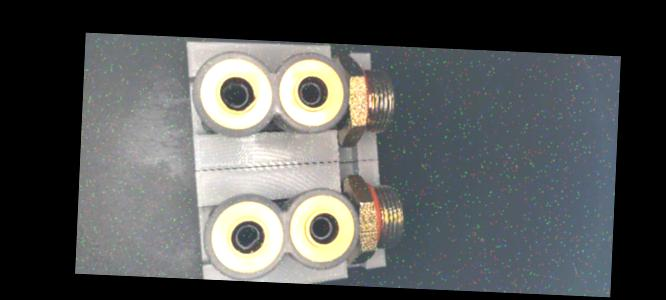off-centered: (218, 77, 257, 110), (231, 220, 264, 252)
